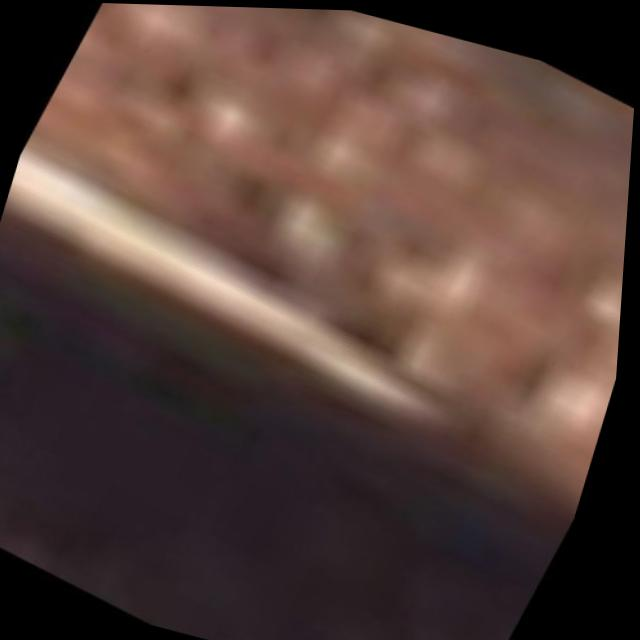Eczema: (30, 2, 640, 440)
